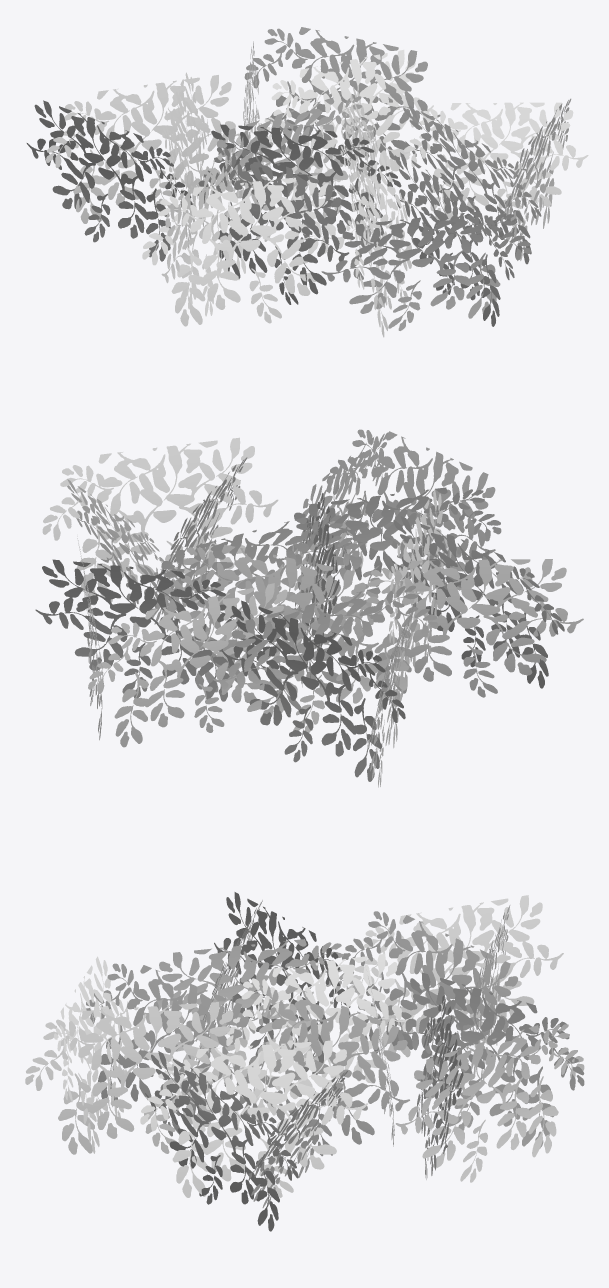
File: grass01.fbx
3 views of the same model, one above another, from view 1: azimuth 30°, elevation 25°; view 2: azimuth 150°, elevation 25°; view 3: azimuth 270°, elevation 25° (orthographic). The views are drawn at different scales.
Visible parts, largest first — view 1: grass01_LOD0; view 2: grass01_LOD0; view 3: grass01_LOD0.
Boxes of the visible parts, x1=… form: grass01_LOD0: x1=26, y1=27, x2=588, y2=337; grass01_LOD0: x1=35, y1=429, x2=583, y2=787; grass01_LOD0: x1=25, y1=892, x2=584, y2=1231.
Size of what is drawn, in the model's own units: 0.3017 by 0.3021 by 0.1103.
